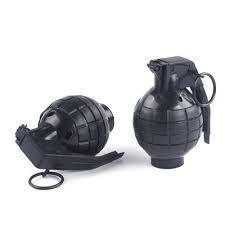Grenade: (13, 92, 124, 189), (131, 54, 216, 168)
